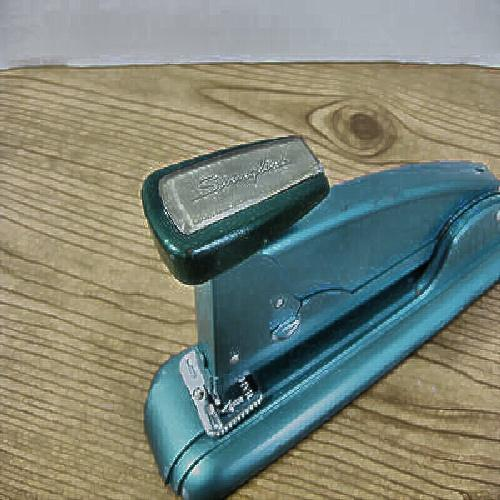stapler: (130, 149, 475, 471)
